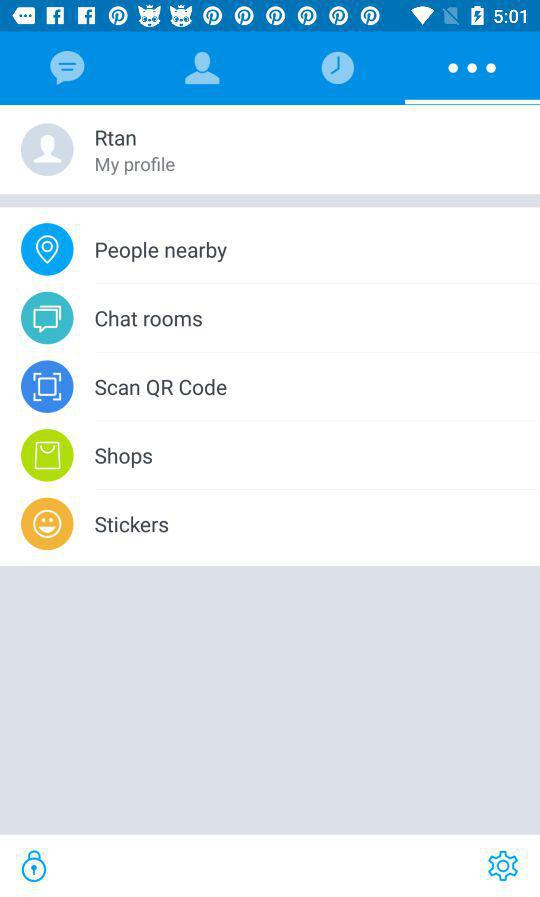Icon: (21, 429, 75, 483), (21, 291, 75, 345), (21, 223, 75, 277), (22, 124, 75, 177), (50, 51, 86, 87), (185, 52, 221, 86), (488, 851, 519, 882), (22, 850, 48, 883), (448, 63, 497, 75)
Image: (21, 360, 75, 414), (22, 497, 75, 551), (321, 52, 355, 86)
Multi_Tab: (1, 33, 540, 106)
Text: (96, 242, 228, 264), (95, 379, 228, 398), (95, 310, 203, 328), (96, 157, 176, 177), (95, 516, 169, 534), (95, 447, 153, 469), (96, 130, 137, 148)
UpperTaskBar: (1, 1, 540, 33)
